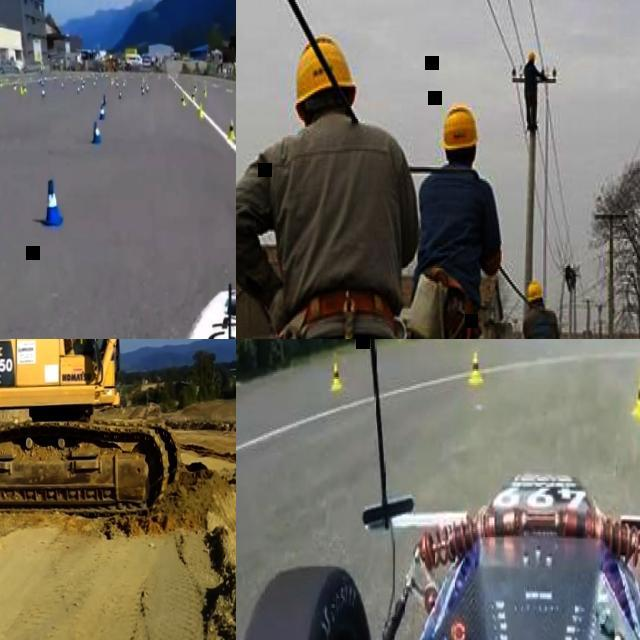Weapon: (246, 8, 566, 345)
objects: (284, 14, 408, 134), (438, 84, 526, 172)
